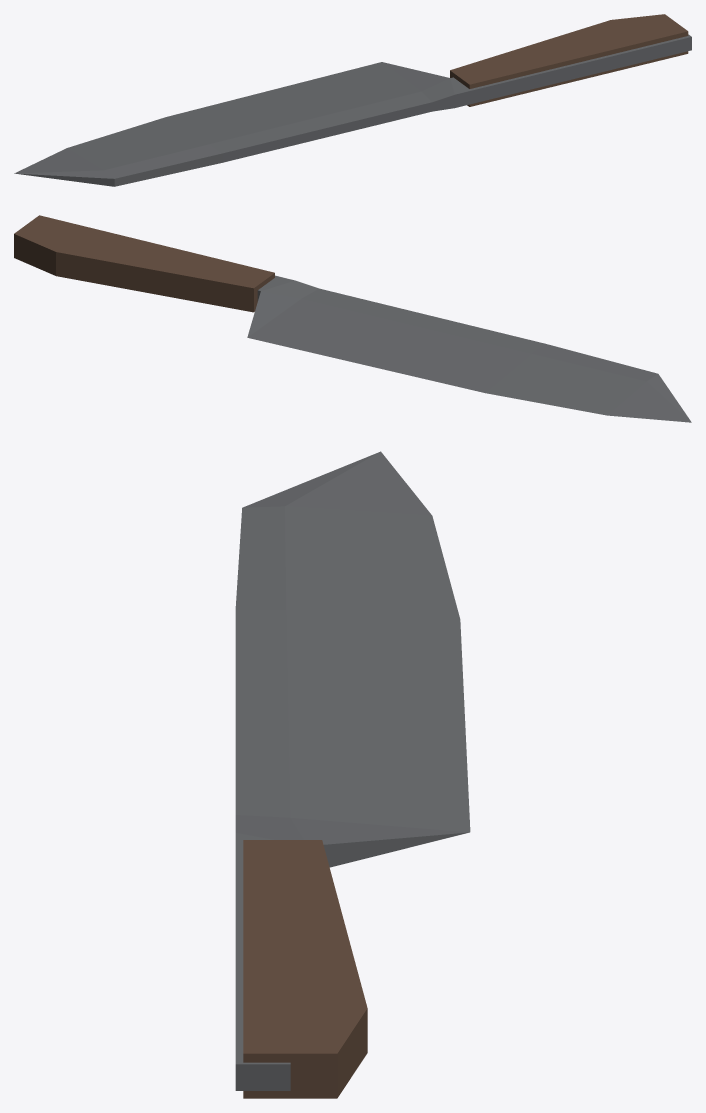
File: bunkaKnife.fbx
3 views of the same model, one above another, from view 1: azimuth 30°, elevation 25°; view 2: azimuth 150°, elevation 25°; view 3: azimuth 270°, elevation 25° (orthographic). The views are drawn at different scales.
Visible parts, largest first — view 1: bunkaKnife; view 2: bunkaKnife; view 3: bunkaKnife.
Boxes of the visible parts, x1,y1,x2,y2 form: bunkaKnife: (14,14,691,186); bunkaKnife: (14,215,691,422); bunkaKnife: (235,451,470,1098).
Bounding box in the file's own units: 59.28 × 1.98 × 9.39.
Materials: 1 (1 with a texture image).
